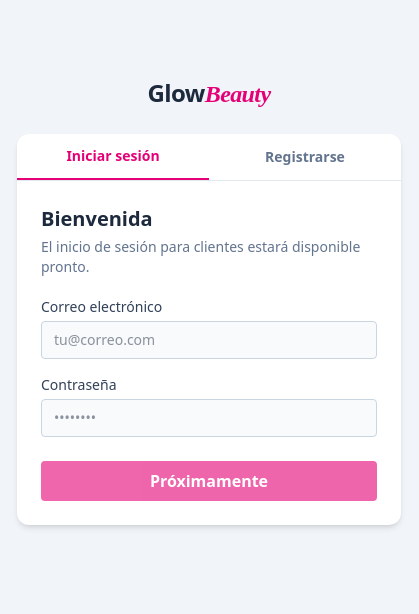
Scenario: CuentaPage › al hacer clic en 'Registrarse' muestra los campos del formulario de registro
Click the button "Registrarse" at (305, 157), box [209,134,401,180]
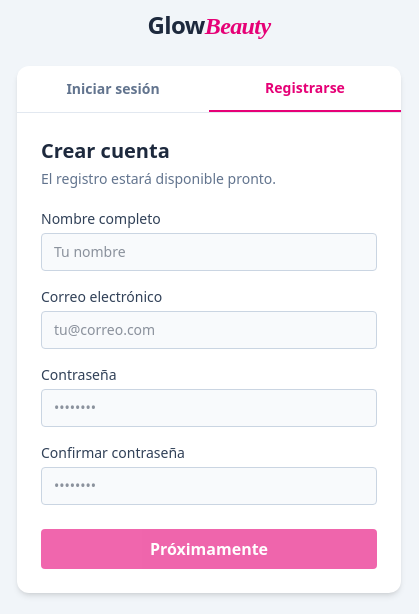
Now the field labelled "Nombre completo" is shown, box [41,233,377,271]
Now the password field labelled "Confirmar contraseña" is shown, box [41,467,377,505]
